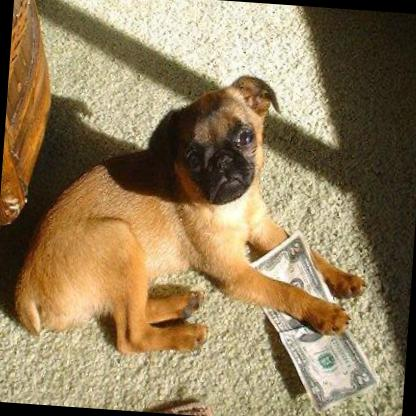Brabancon_griffon: (8, 57, 380, 370)
